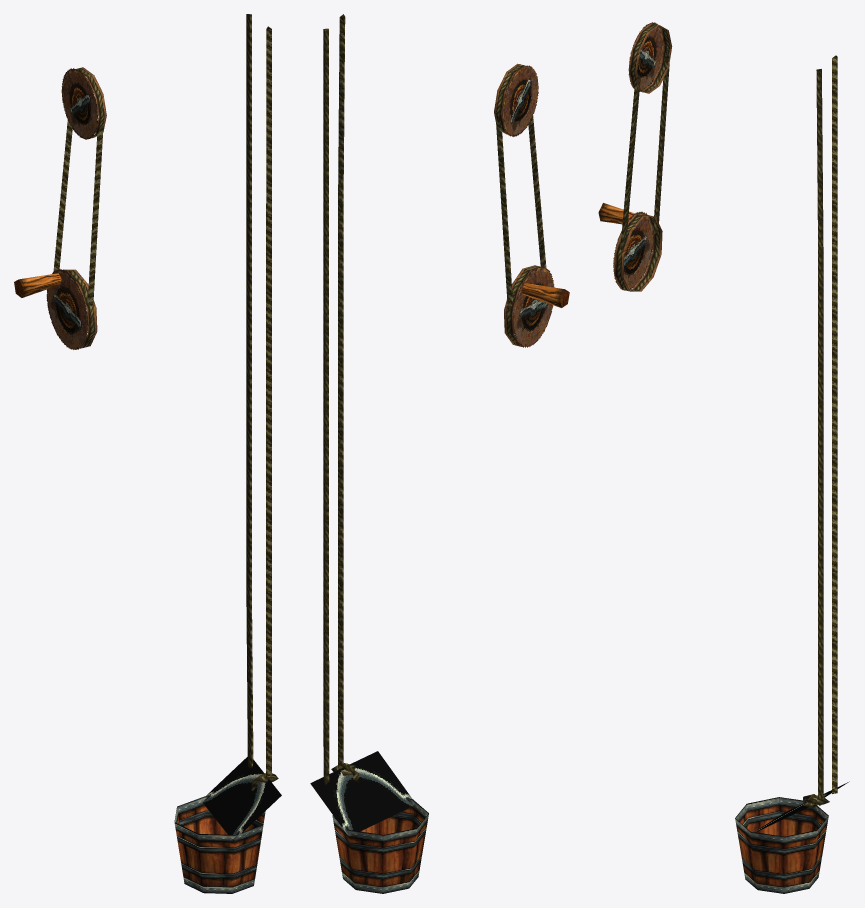
The model's file is PAULSWELLPARTS_ANI.fbx.
3 views of the same model, side by side, from view 1: azimuth 30°, elevation 25°; view 2: azimuth 150°, elevation 25°; view 3: azimuth 330°, elevation 25° (orthographic). The views are drawn at different scales.
Visible parts, largest first — view 1: PAULSWELLPARTS_ANI; view 2: PAULSWELLPARTS_ANI; view 3: PAULSWELLPARTS_ANI.
Boxes of the visible parts, bbox=[...] form: PAULSWELLPARTS_ANI: bbox=[14, 14, 281, 893]; PAULSWELLPARTS_ANI: bbox=[310, 14, 569, 893]; PAULSWELLPARTS_ANI: bbox=[598, 22, 849, 893].
Size of the model in its own units: 19868 by 65791 by 8517.
9 materials, 9 textured.
